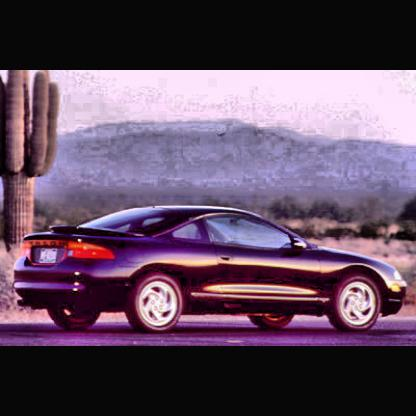Eagle Talon Hatchback 1998: (12, 205, 410, 337)
